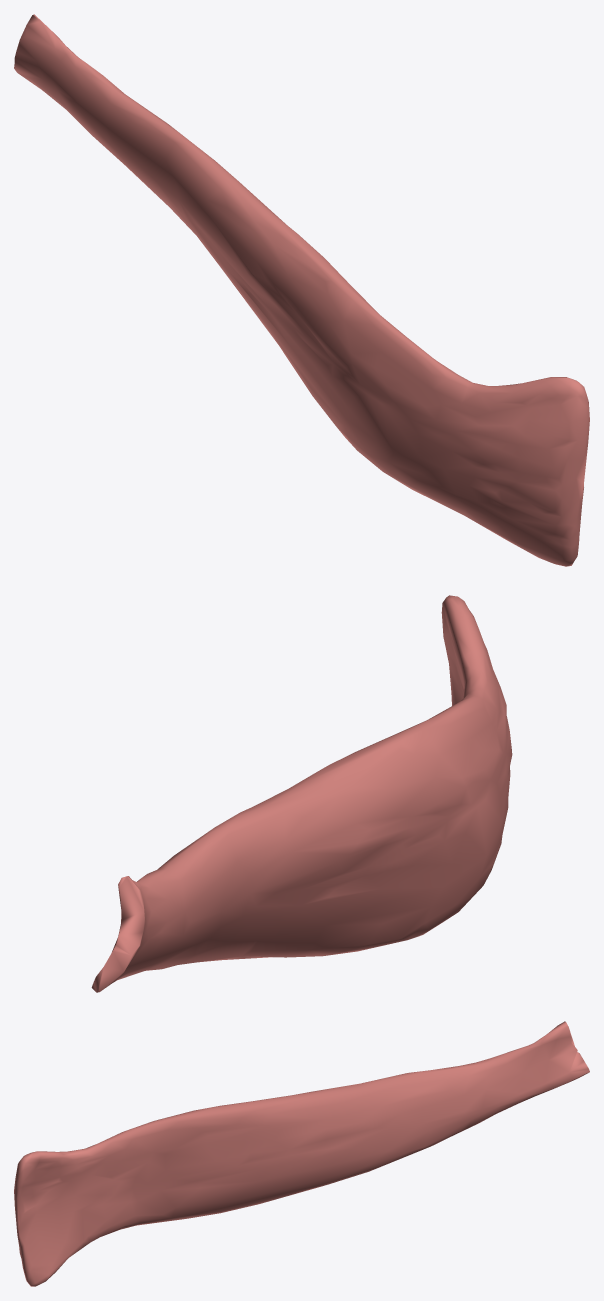
3 renders of one model, top to bottom at view 1: azimuth 30°, elevation 25°; view 2: azimuth 150°, elevation 25°; view 3: azimuth 270°, elevation 25°, orthographic. The views are drawn at different scales.
Parts seen in each view (by area): view 1: ZA_781d3da03600c6f5; view 2: ZA_781d3da03600c6f5; view 3: ZA_781d3da03600c6f5.
Boxes of the visible parts, left/top/right/bottom form: ZA_781d3da03600c6f5: left=14, top=14, right=589, bottom=566; ZA_781d3da03600c6f5: left=91, top=595, right=512, bottom=992; ZA_781d3da03600c6f5: left=14, top=1021, right=589, bottom=1286.
Bounding box in the file's own units: 0.01 × 0.0166 × 0.0404.
